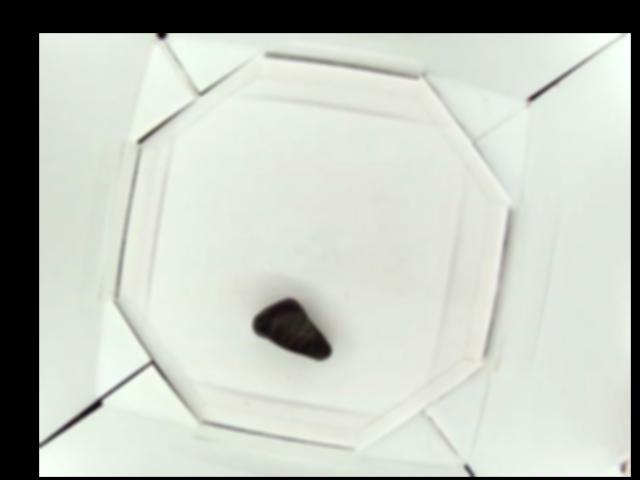Pebble: (250, 297, 333, 361)
